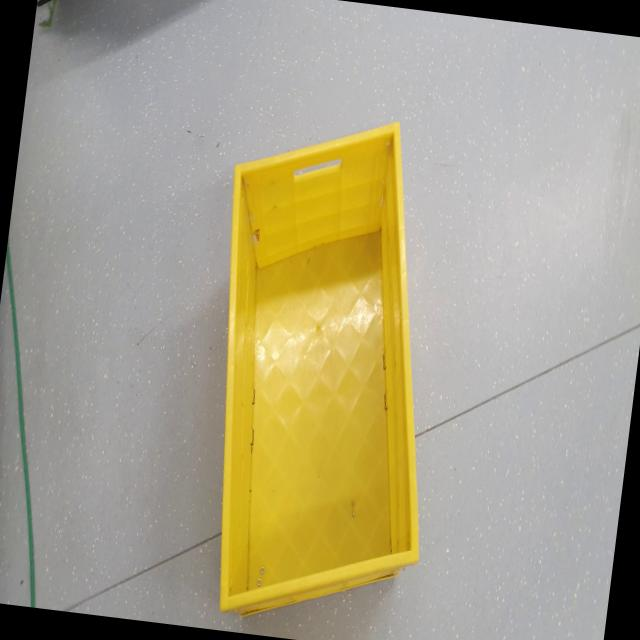box: (172, 82, 482, 640)
